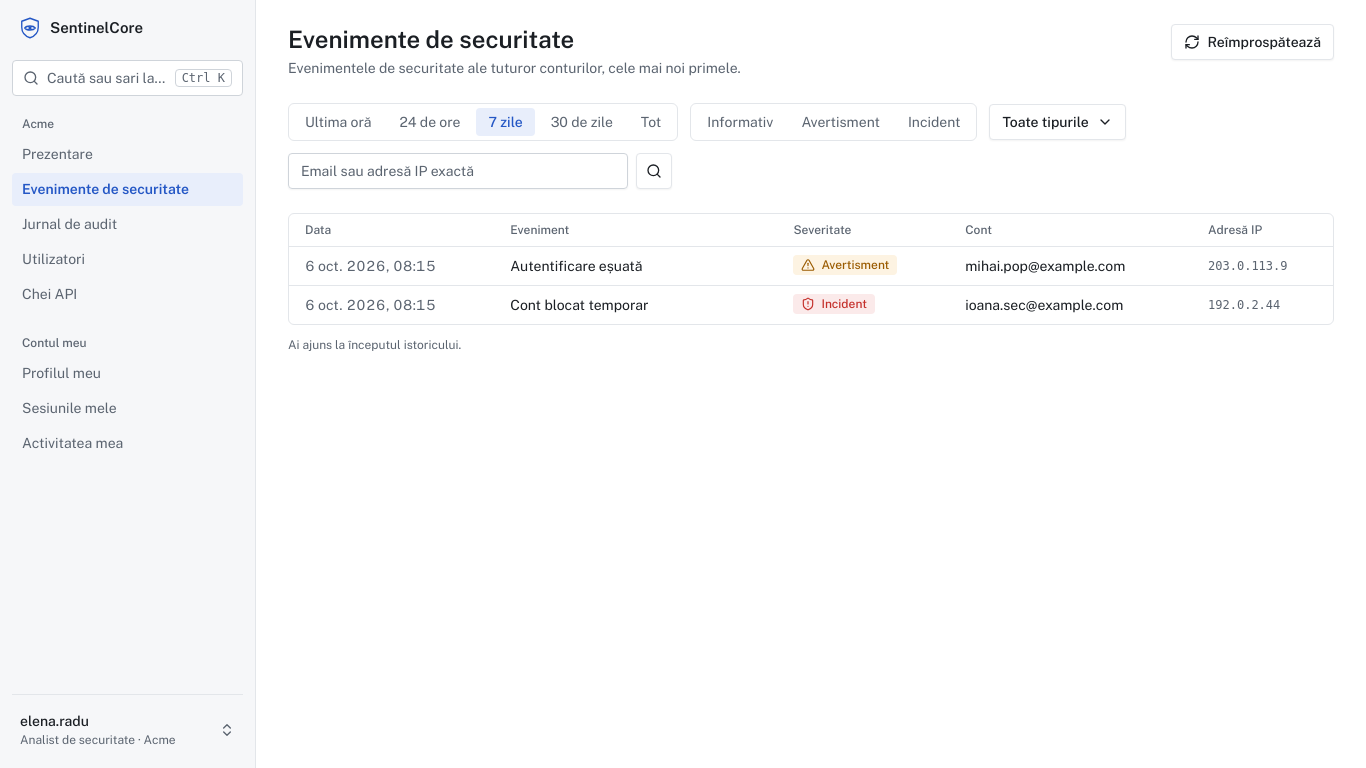
Test case: organization security events page › opens the details of an event and narrows the log from them
The width and height of the screenshot is (1366, 768).
Click the button "Cont blocat temporar". click: {"x": 579, "y": 305}
box: x1=510 y1=295 x2=648 y2=315
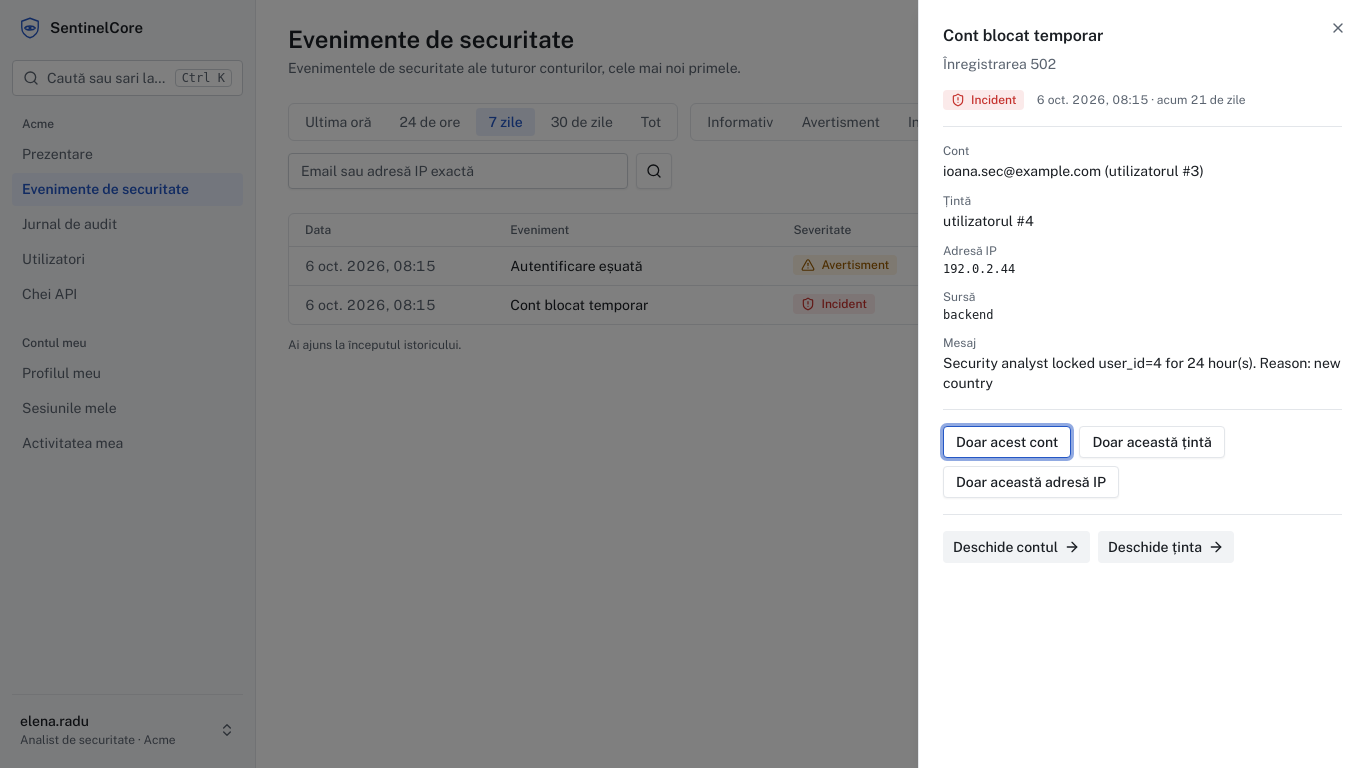
expect the dialog "Cont blocat temporar" shows "Înregistrarea 502": met, box x1=943 y1=56 x2=1056 y2=72
expect the dialog "Cont blocat temporar" shows "ioana.sec@example.com (utilizatorul #3)": met, box x1=943 y1=163 x2=1204 y2=179
expect the dialog "Cont blocat temporar" shows "utilizatorul #4": met, box x1=943 y1=213 x2=1034 y2=229
Click the button "Doar această țintă". click: {"x": 1152, "y": 442}
box: x1=1079 y1=426 x2=1225 y2=458
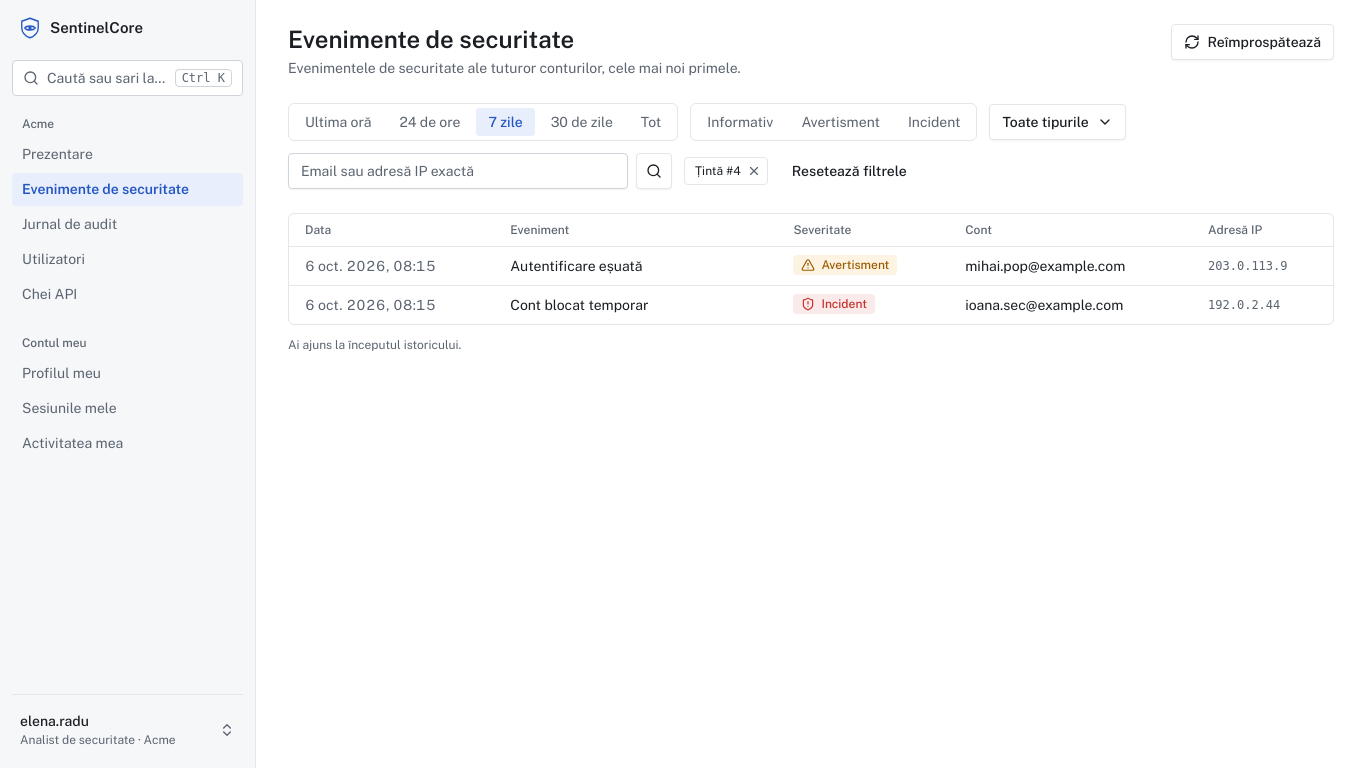
expect the dialog is gone: met
